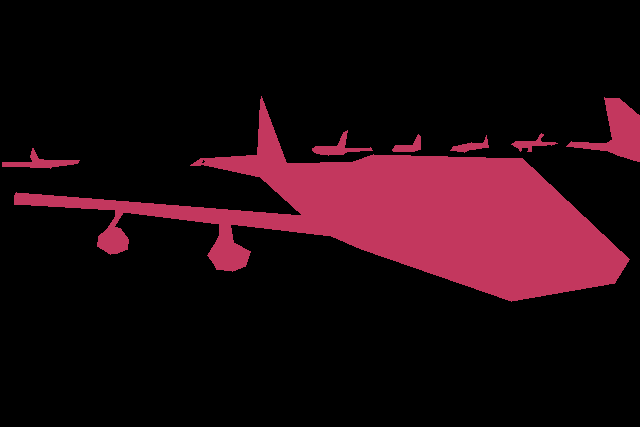Airplane: (14, 96, 630, 302), (566, 97, 640, 163), (2, 148, 79, 169), (312, 130, 373, 155), (511, 133, 557, 152), (190, 154, 261, 165), (450, 135, 488, 152), (392, 134, 420, 152)
